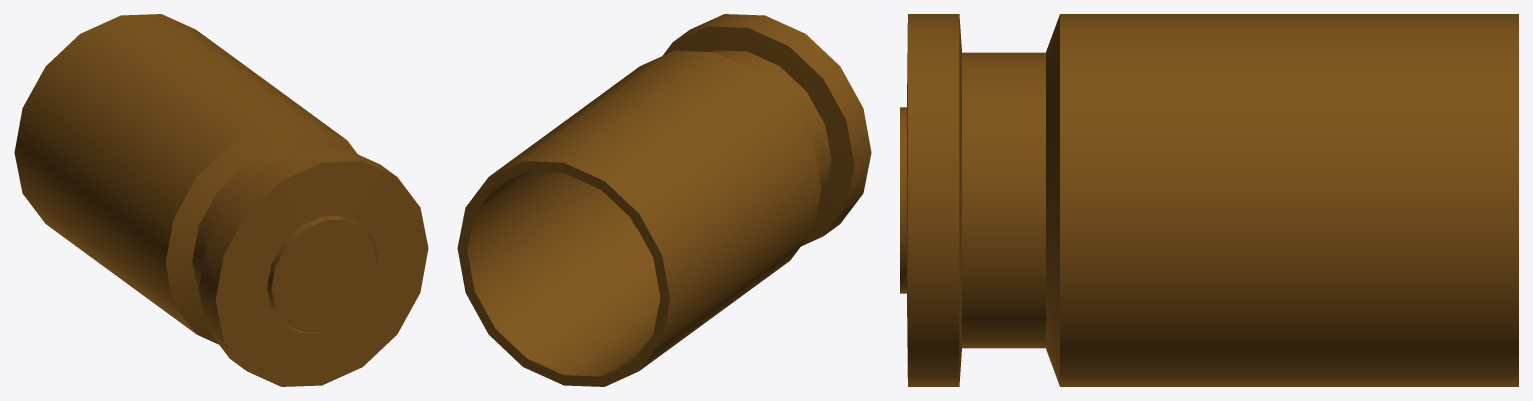
Rendered from BulletCasing.obj.
3 renders of one model, left to right at view 1: azimuth 30°, elevation 25°; view 2: azimuth 150°, elevation 25°; view 3: azimuth 270°, elevation 25°, orthographic. The views are drawn at different scales.
Parts seen in each view (by area): view 1: BulletCasing; view 2: BulletCasing; view 3: BulletCasing.
Part boxes in pixels (bbox=[...]): BulletCasing: bbox=[14, 14, 428, 386]; BulletCasing: bbox=[457, 14, 871, 386]; BulletCasing: bbox=[900, 14, 1518, 386].
Size of the model in its own units: 0.4558 by 0.4558 by 0.7557.
